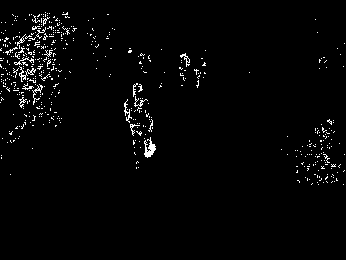person: (121, 81, 158, 169)
